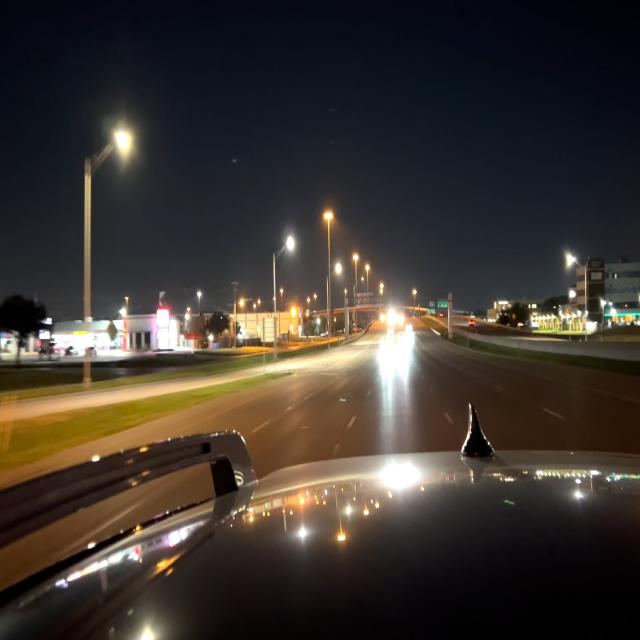back-of-sign: (261, 317, 278, 342)
